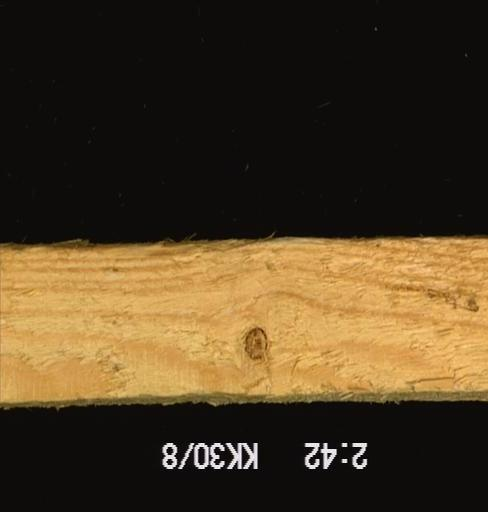dry_knot: (242, 323, 269, 363)
split: (399, 364, 466, 395)
